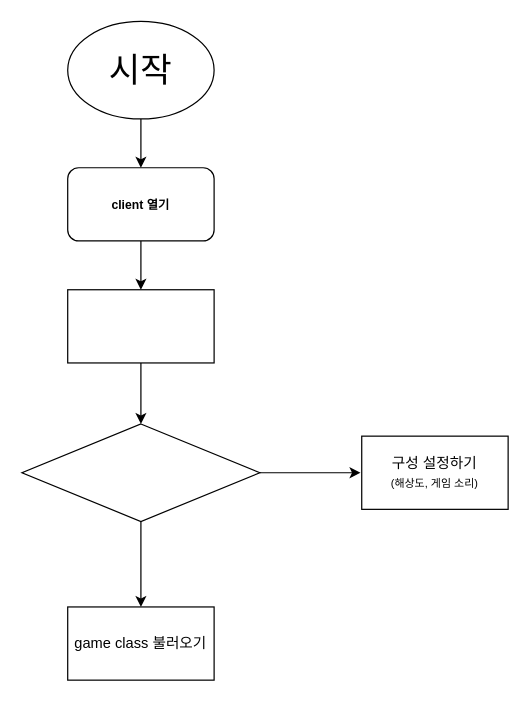
Image size: 529x702. Some labels were removed from this diagram. The shapes that lost their labels are listed below. From the top down, each one's box as (x1, y1, x2, y2) in pixels, then its label:
(66, 289, 214, 363): setting button & start button
(21, 423, 260, 522): 만약 start button 을 클릭했다면
